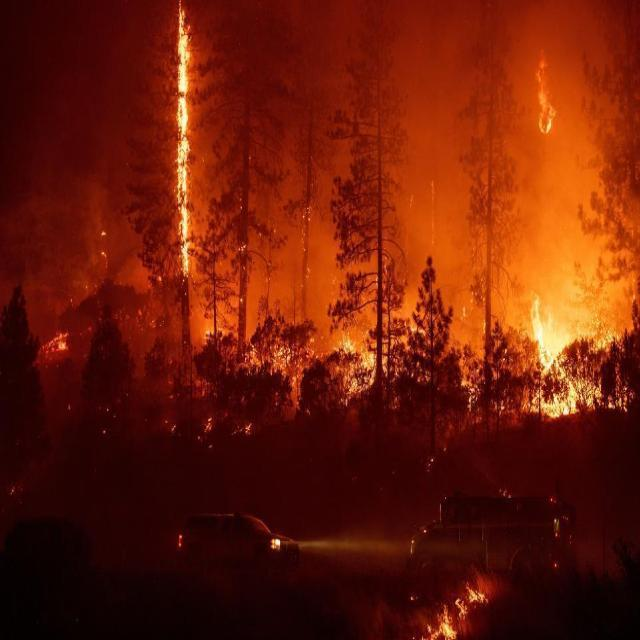Fire: (314, 301, 640, 435), (172, 8, 203, 276)
